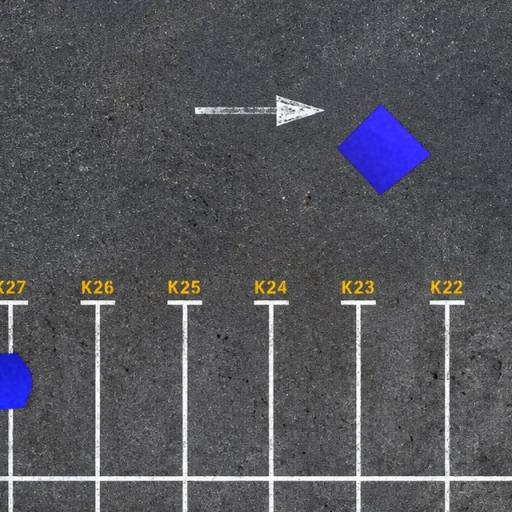BLUE_SQUARE: (336, 103, 432, 196)
